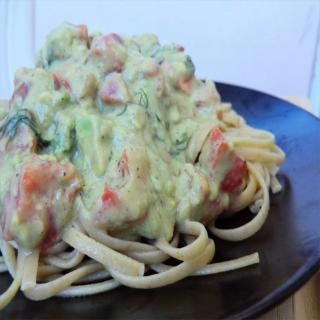Pasta: (5, 20, 274, 315)
